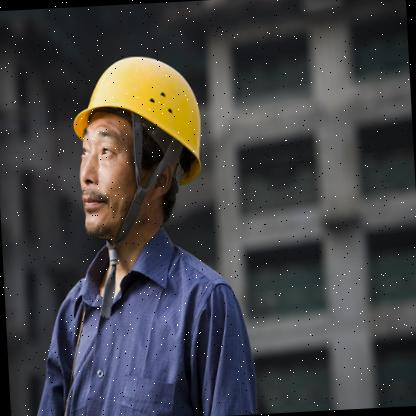capacete: (46, 13, 226, 258)
